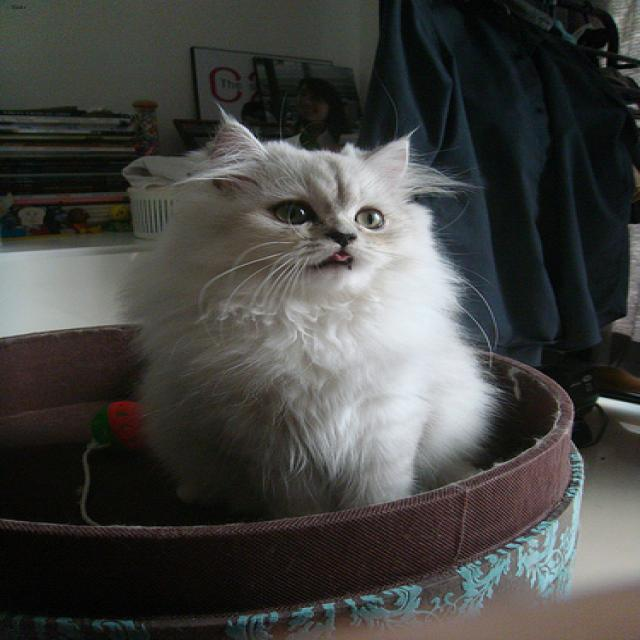Persian: (203, 117, 408, 286)
